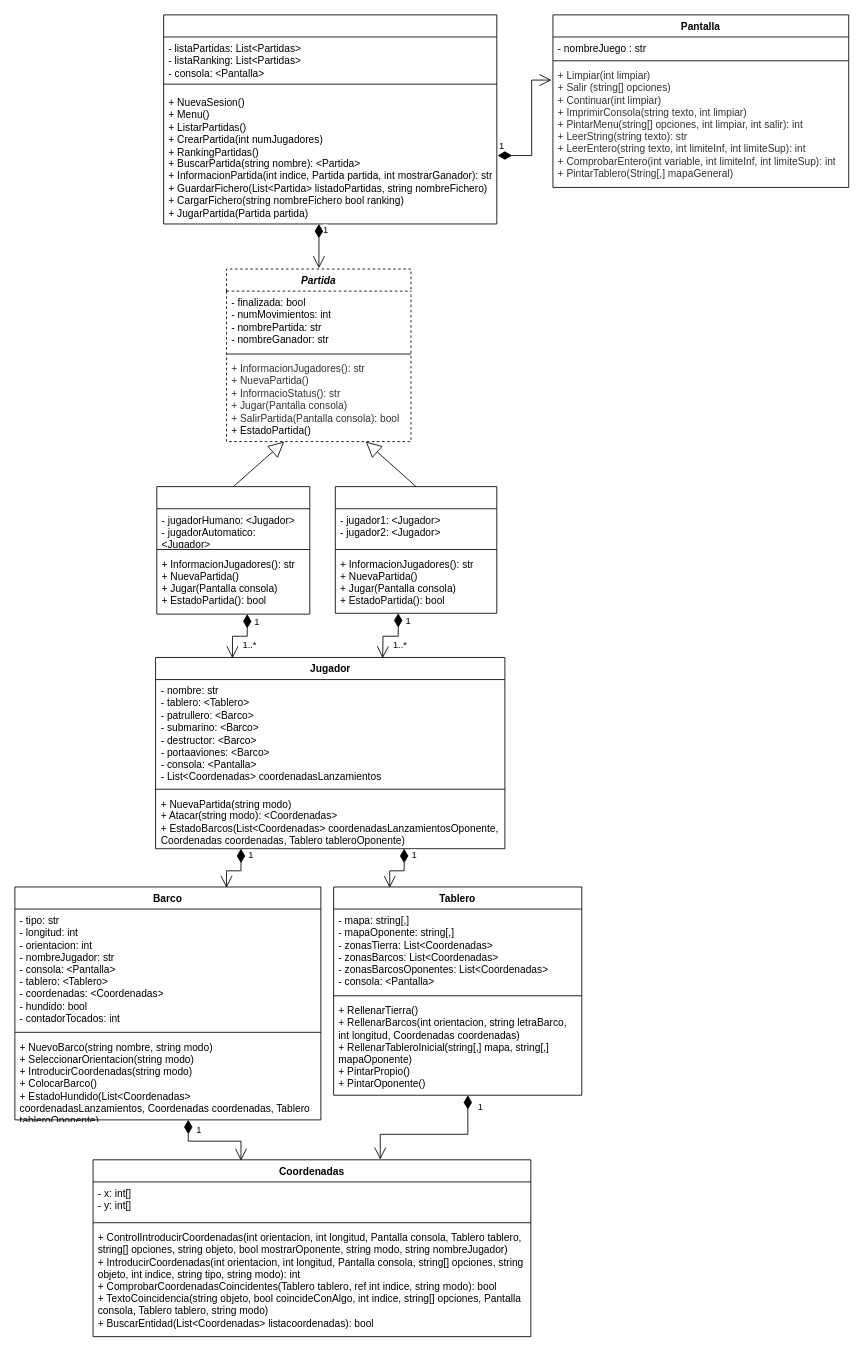
Image size: 864x1354. Some labels were removed from this diagram. Here are the shapes that lost their labels. From the top down, the box of each, then its label:
(163, 14, 497, 224): Juego
(156, 486, 310, 614): JuegoIndividual
(334, 486, 497, 613): JuegoMultiple
